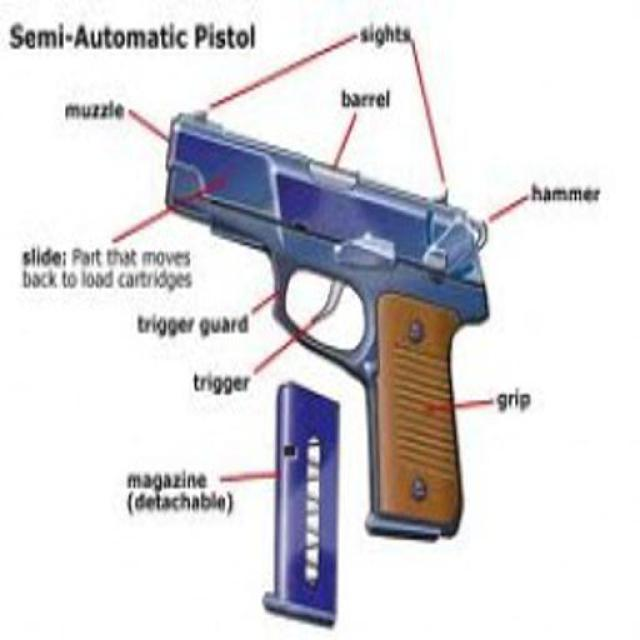pistol: (152, 106, 491, 552)
